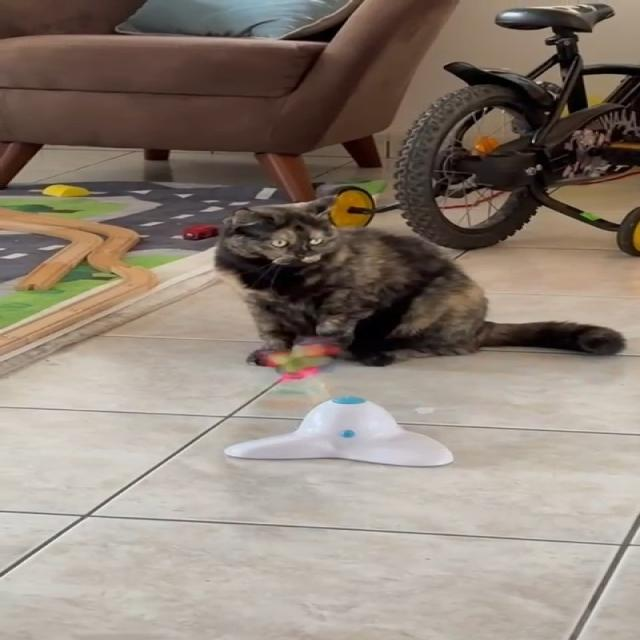authorized: (212, 194, 627, 368)
